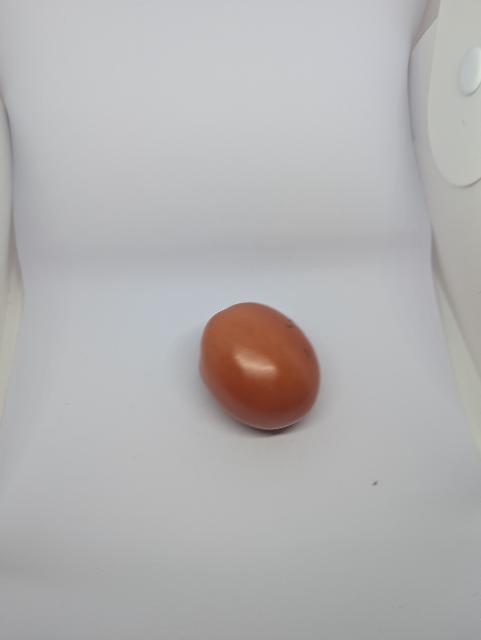red: (198, 301, 323, 432)
